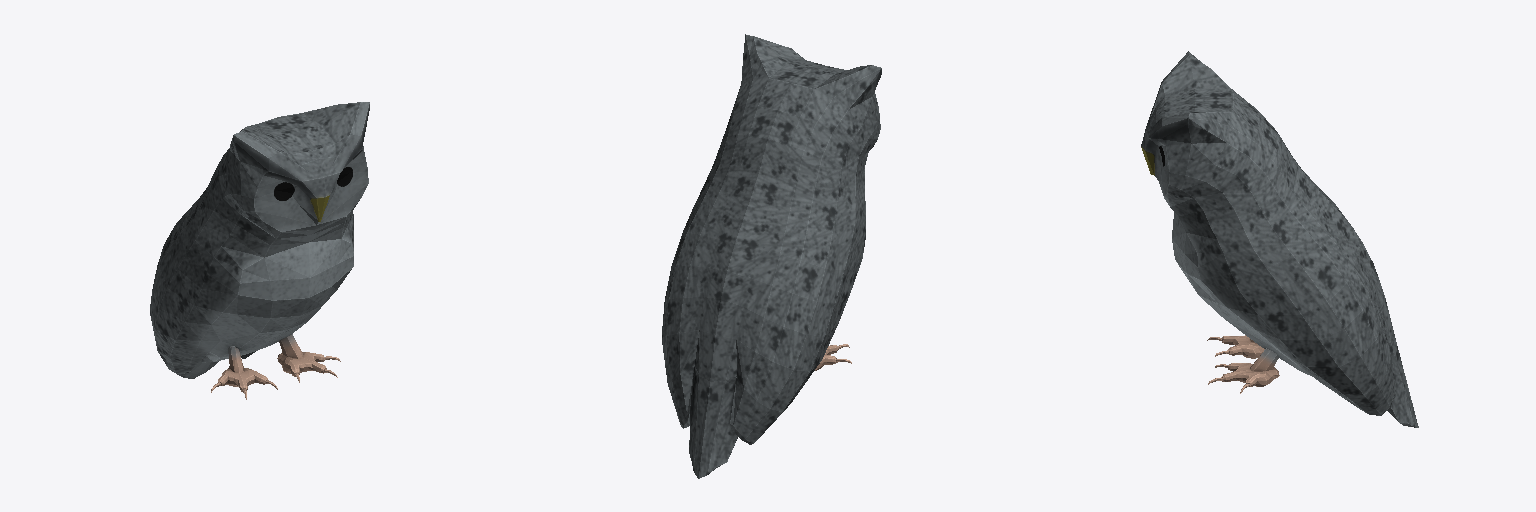
The picture shows the model from 3 angles: view 1: azimuth 30°, elevation 25°; view 2: azimuth 150°, elevation 25°; view 3: azimuth 270°, elevation 25°; orthographic projection.
Parts seen in each view (by area): view 1: ScreechOwl_mesh; view 2: ScreechOwl_mesh; view 3: ScreechOwl_mesh.
Boxes of the visible parts, x1,y1,x2,y2 form: ScreechOwl_mesh: [150, 102, 369, 399]; ScreechOwl_mesh: [662, 34, 881, 478]; ScreechOwl_mesh: [1141, 51, 1418, 427].
Bounding box in the file's own units: 2.99 × 6.31 × 4.62.
Materials: 1 (1 with a texture image).